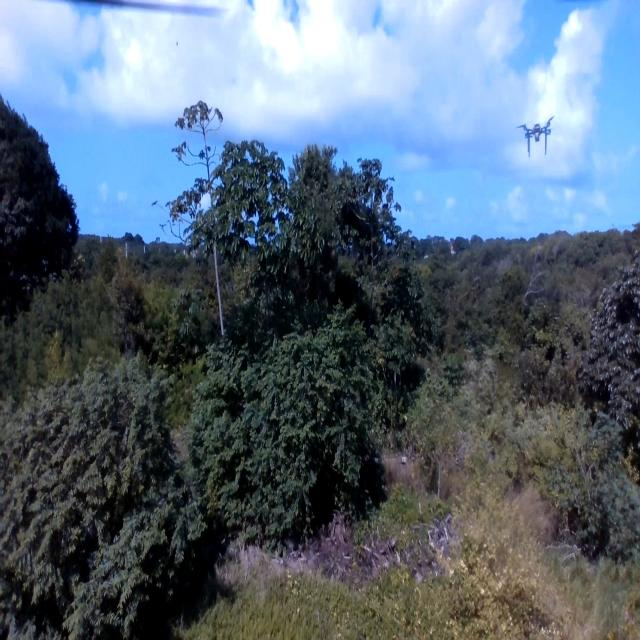-uav-: (514, 96, 561, 180)
